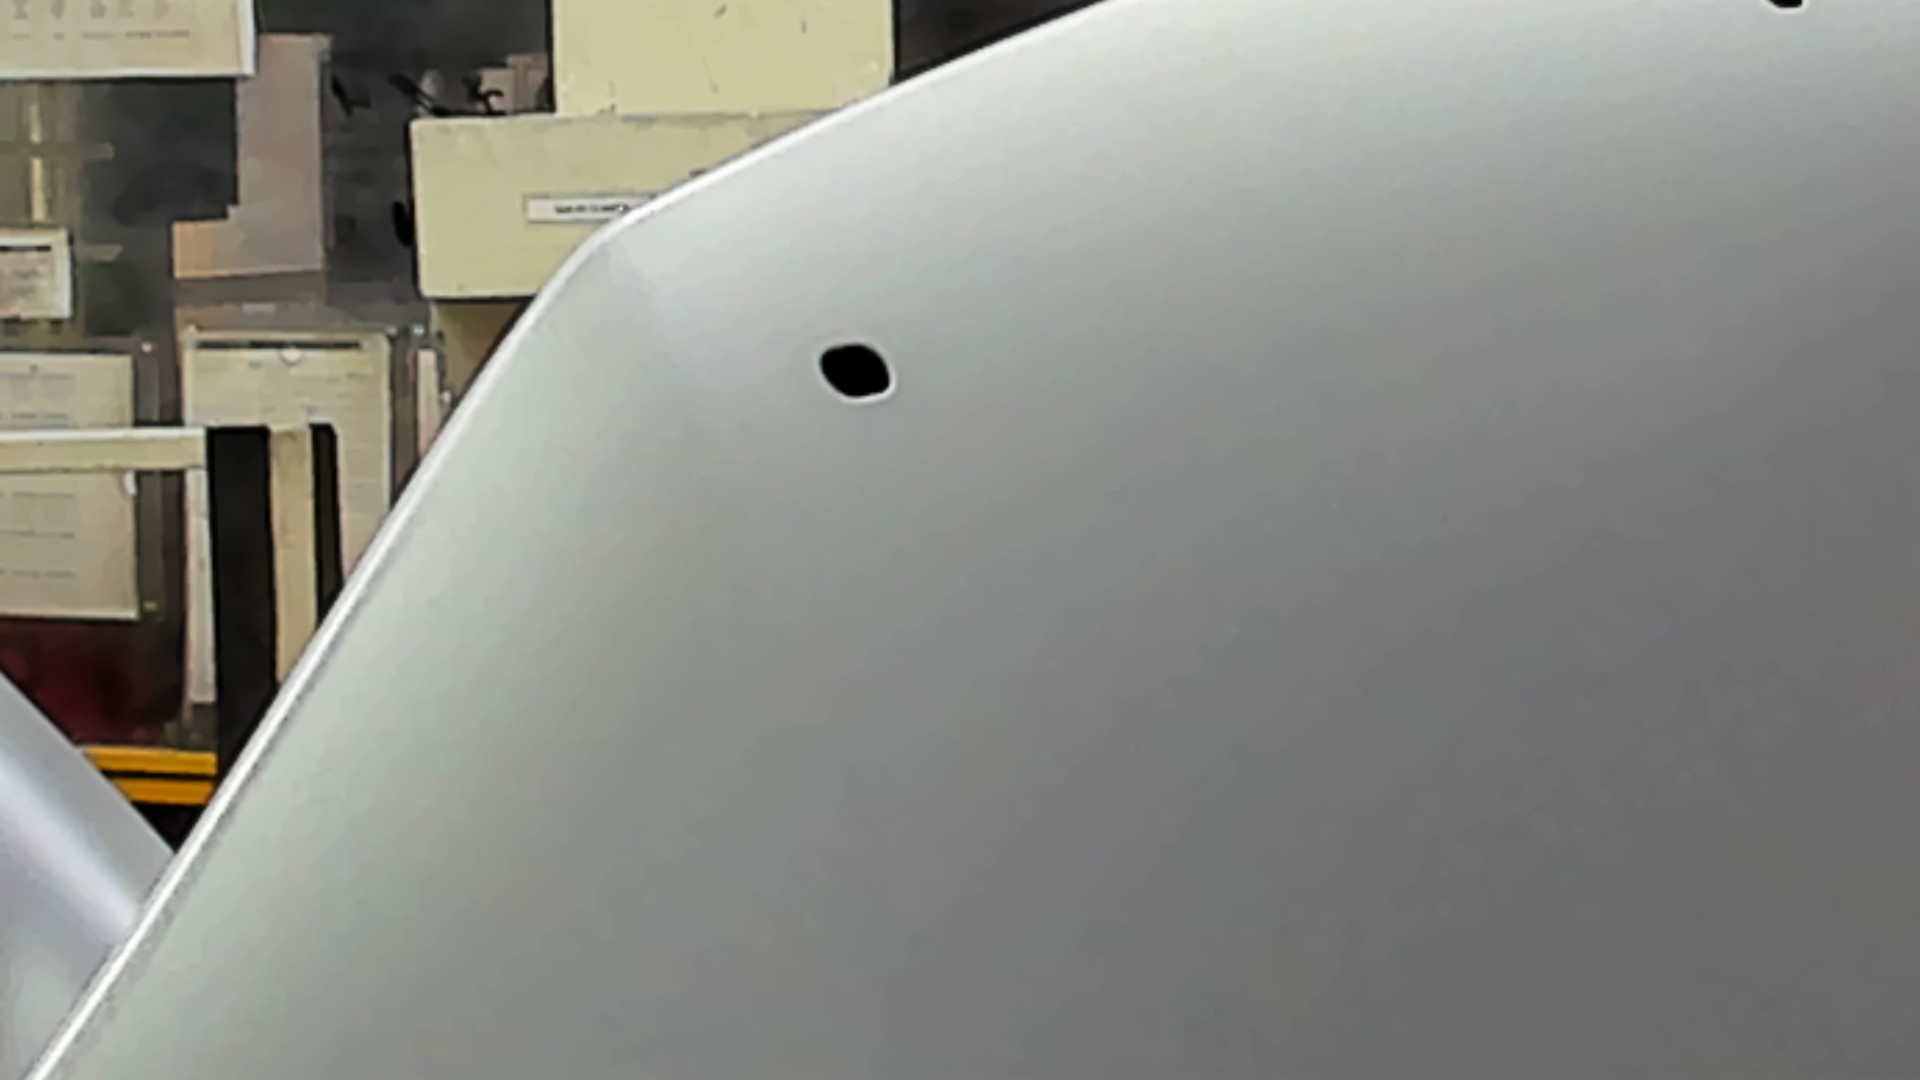amorfo: (811, 338, 899, 404), (1760, 1, 1815, 18)
